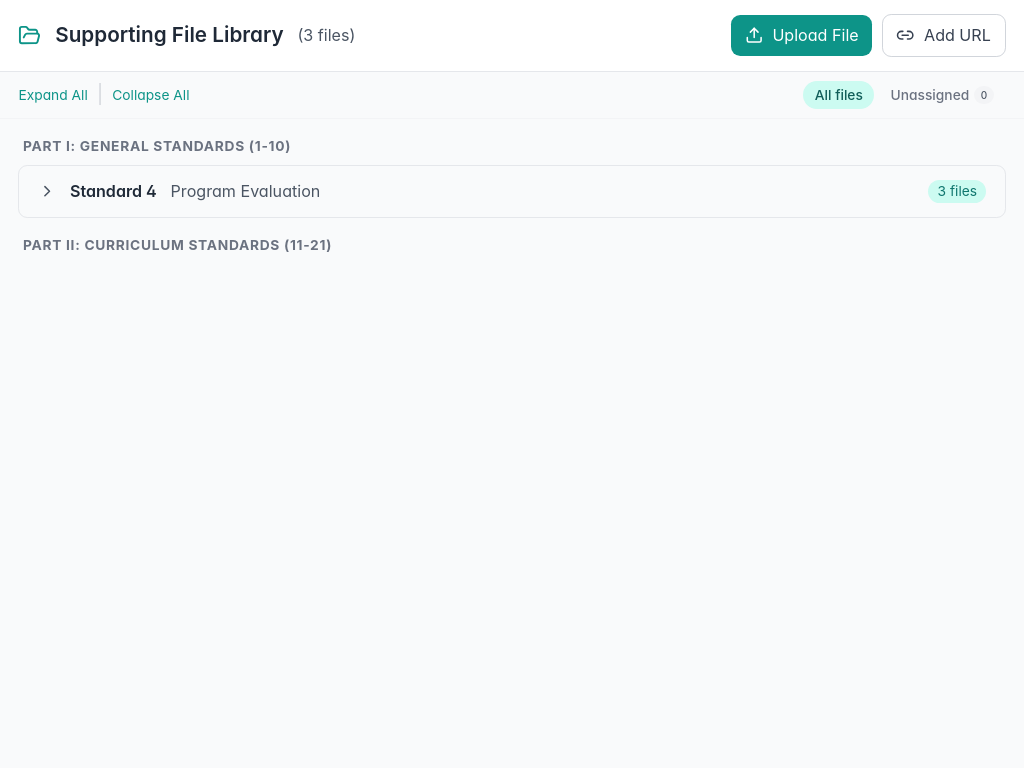
Test: FileLibrary — standard-level files › lists files filed on the Standard itself and under unknown sub-specs, not just known sub-specs
expect the text "3 files" is shown: met, box [928, 180, 986, 203]
Click the text "Standard 4" at point(113, 191), box [70, 180, 157, 203]
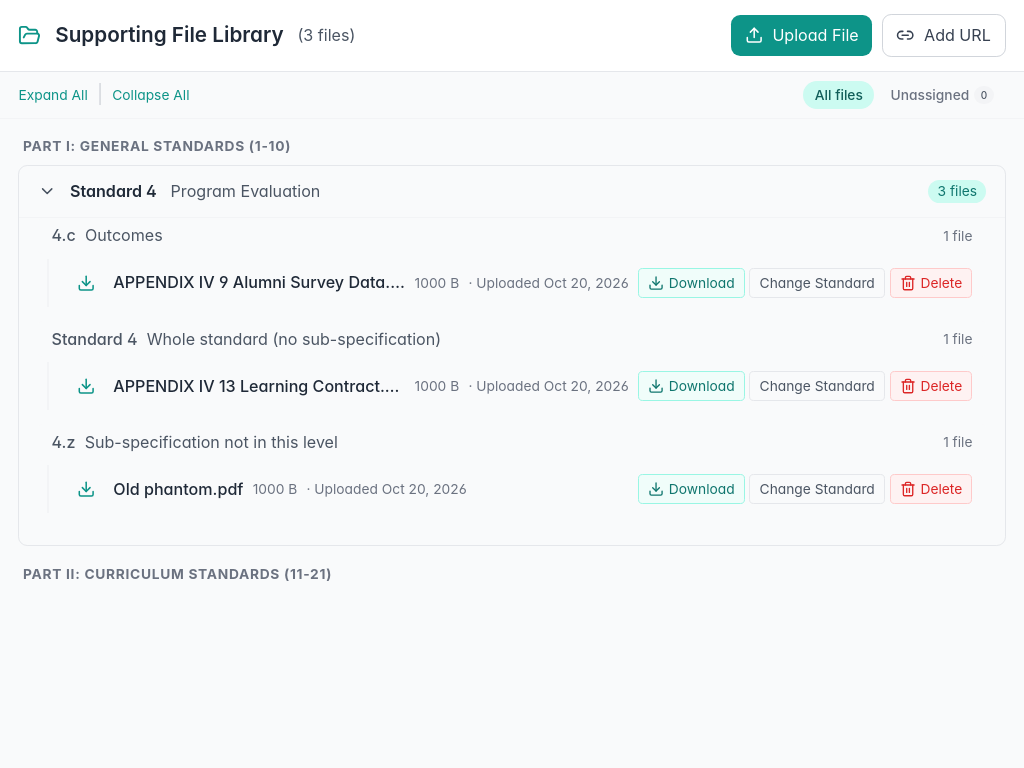
expect the text "APPENDIX IV 9 Alumni Survey Data.pdf" is shown: met, box [113, 271, 405, 294]
expect the text "APPENDIX IV 13 Learning Contract.pdf" is shown: met, box [113, 374, 405, 398]
expect the text "Whole standard (no sub-specification)" is shown: met, box [147, 328, 441, 351]
